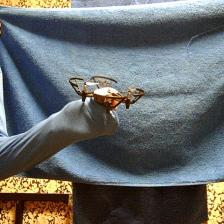drone: (68, 73, 146, 117)
